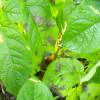Potato leaf late blight: (21, 0, 60, 60), (42, 57, 87, 92)
